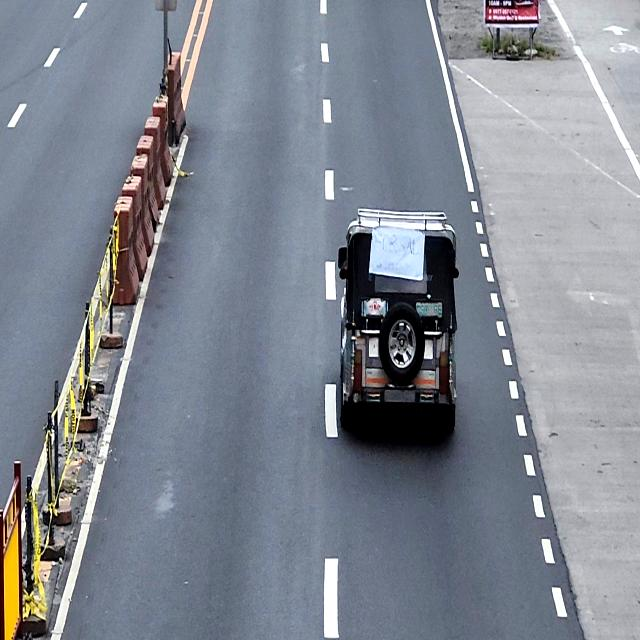Car: (334, 207, 459, 434)
License-Plate: (415, 302, 443, 319)
